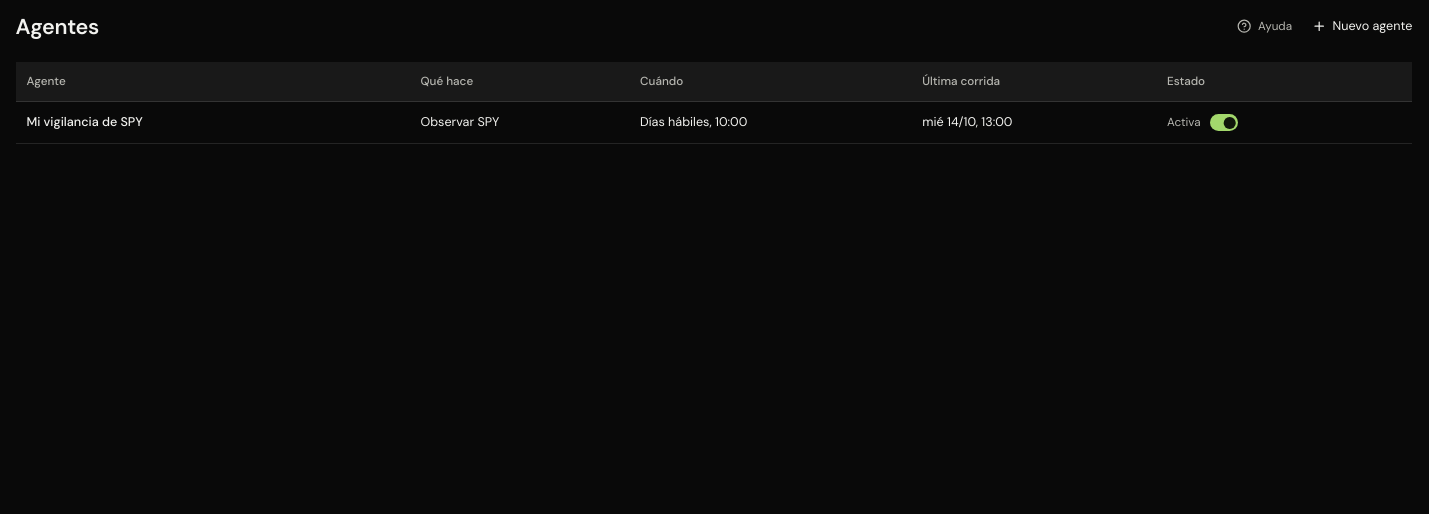
agrupa por fecha y deja los errores técnicos dentro de cada corrida plegada
Step 1. Click the button "Mi vigilancia de SPY" → (85, 122), box [26,114,143,130]
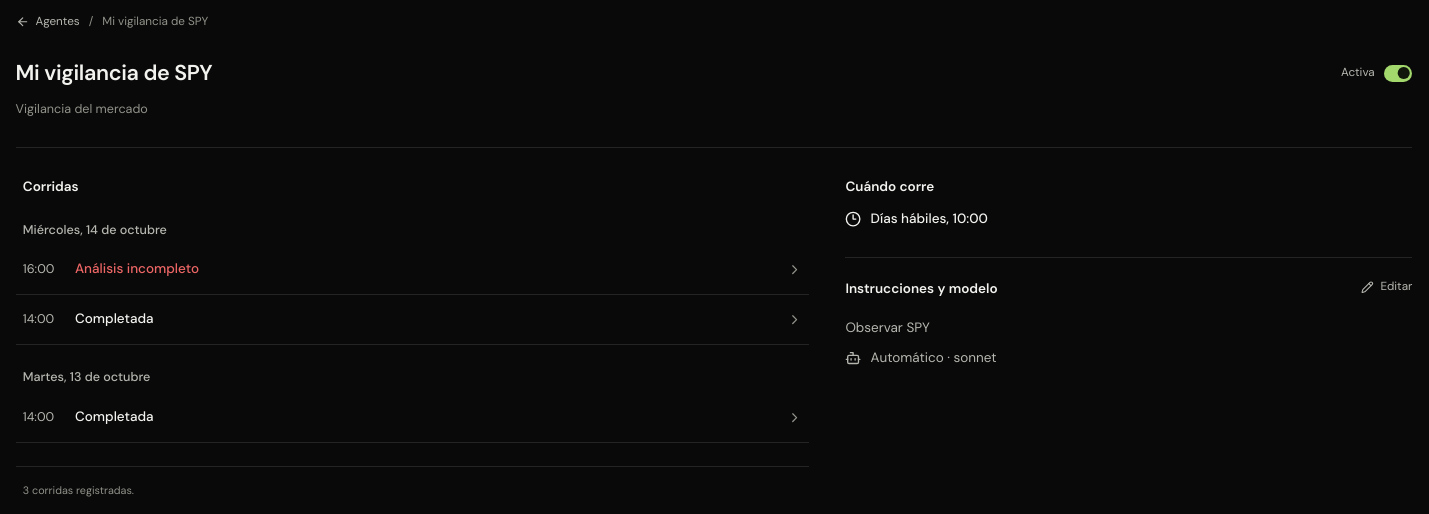
Result: the text "Análisis incompleto" is shown at [75,260,199,277]
